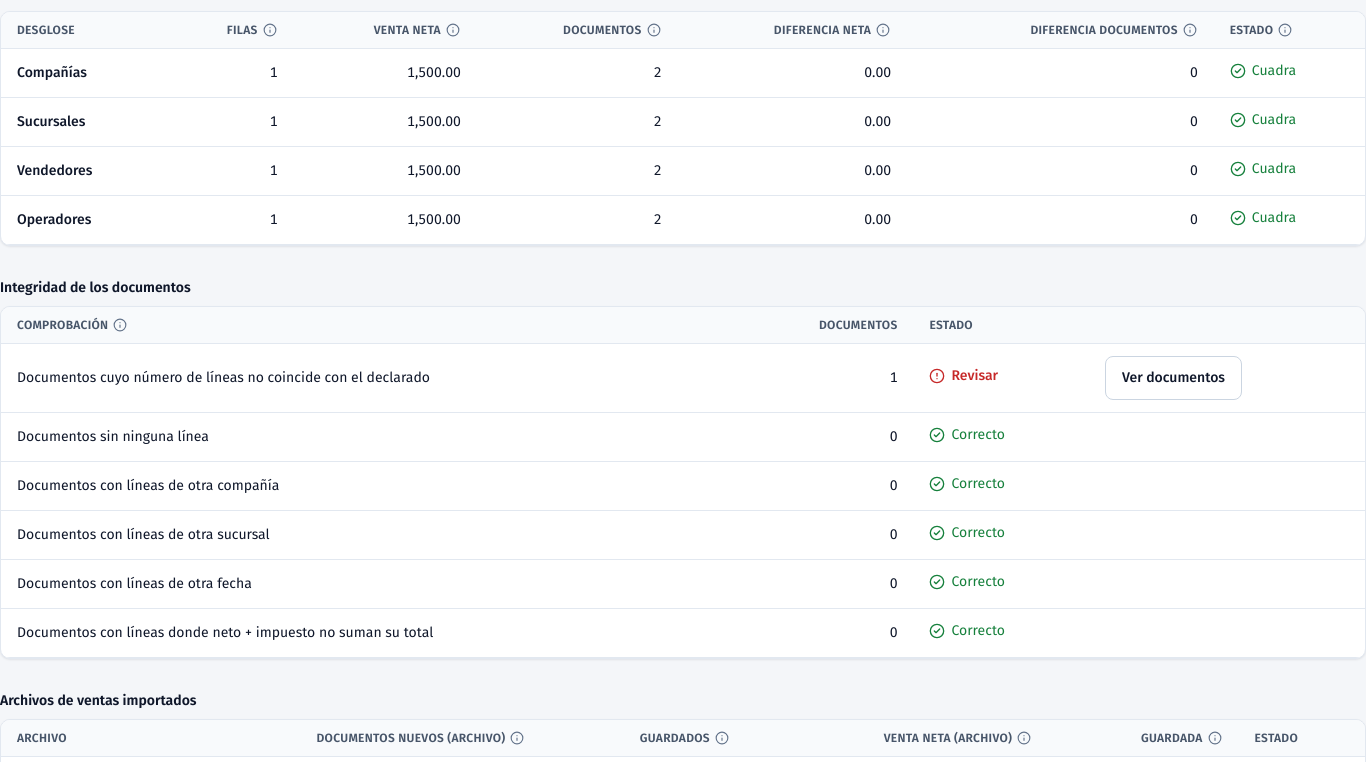
conciliación › señala una diferencia de integridad y abre los documentos con la descripción del problema
(page scrolled)
Click the button "Ver documentos".
click(1174, 378)  # box [1105,356,1242,400]
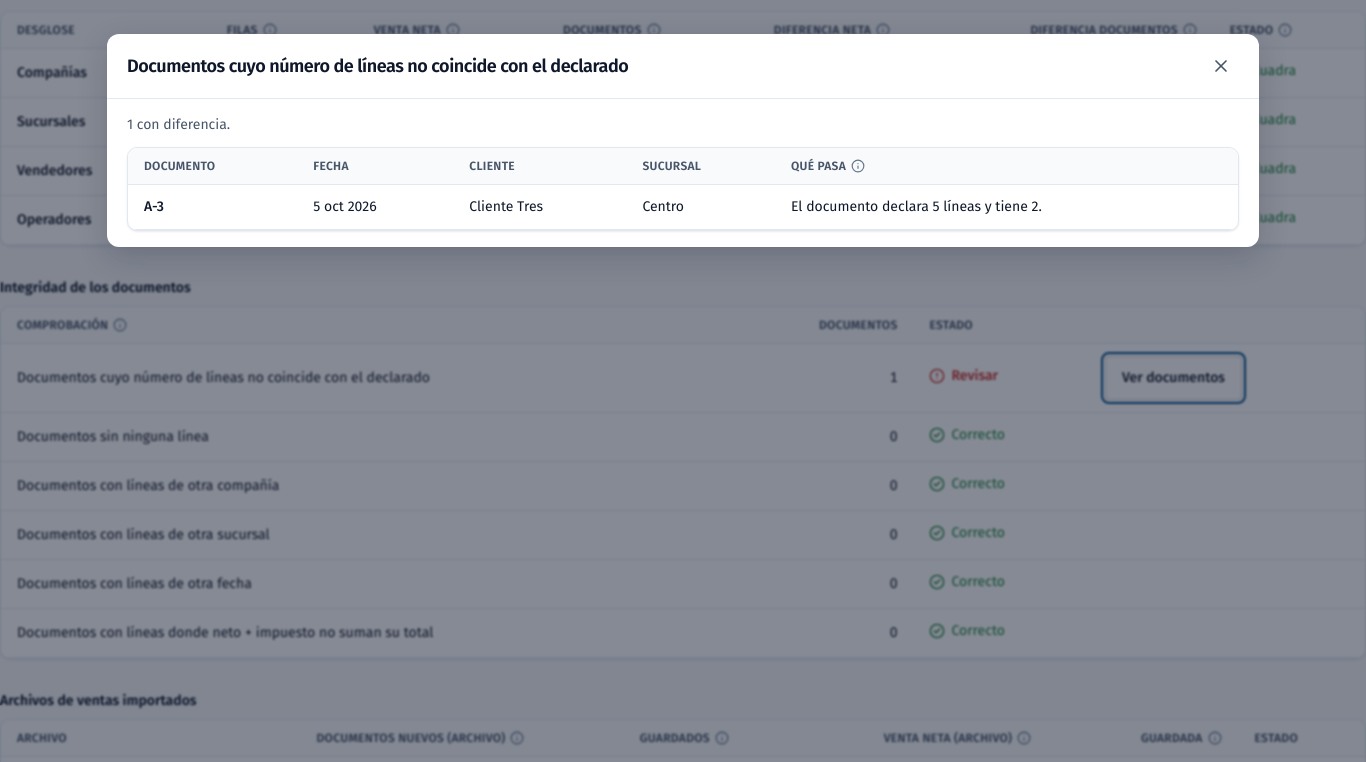
Result: the text "El documento declara 5 líneas y tiene 2." is shown at [775,184,1238,230]
